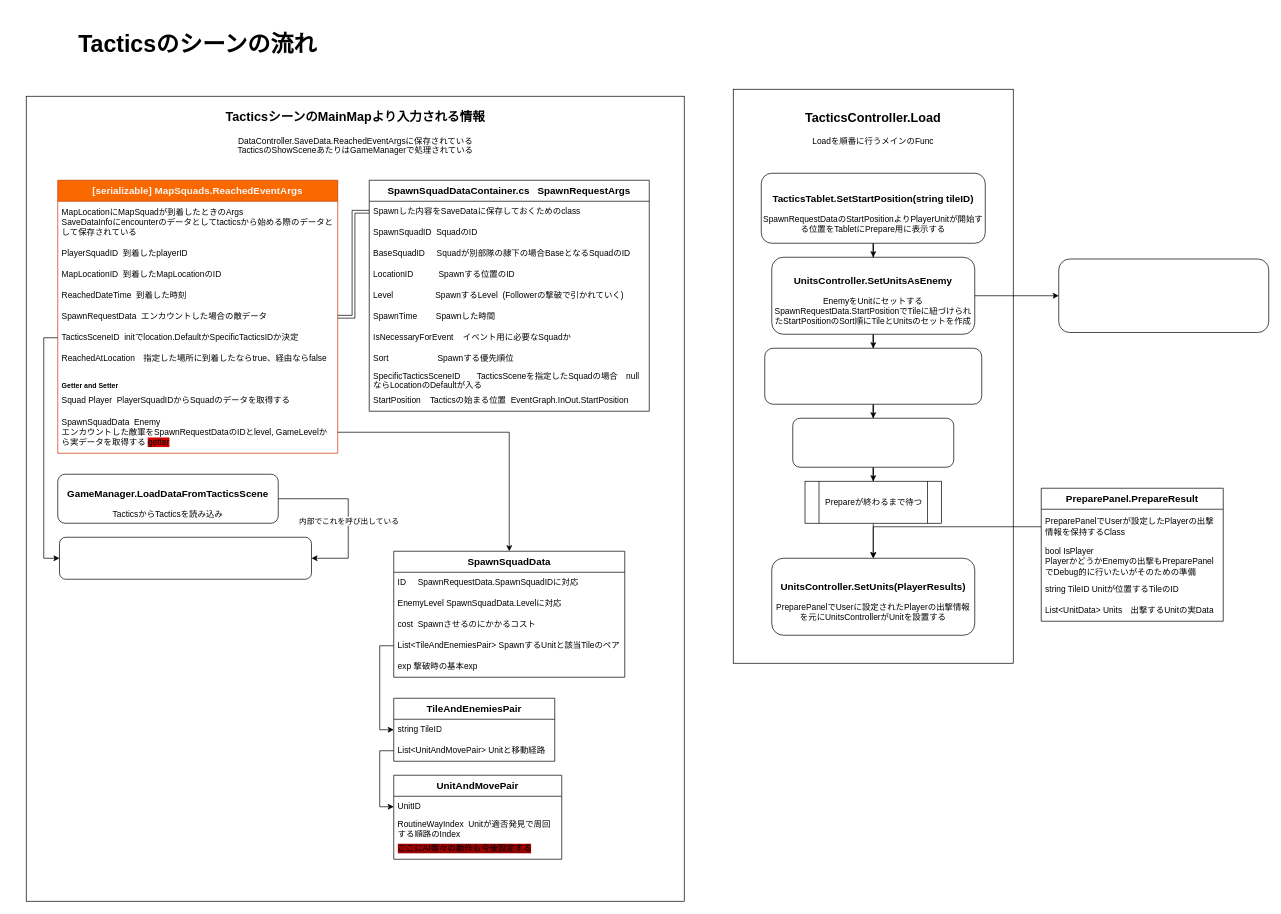
The diagram is 1281 pixels wide and 914 high, and some of its shapes have lost their labels. The shapes that lost their labels are listed below. From the top down, each one's centre as x and y in pixels, then its label:
At pixel 1163 295: "UnitsController.SetUnits(PlayerResults) UnitをEnemyとして設置する".
At pixel 873 376: "eventSceneController.PlayEventIfNeeded イベント終了時まで待つ".
At pixel 873 442: "tacticsTablet.ShowPreparePanel TacticsTabletに準備UIを表示".
At pixel 185 558: "GameManager.ShowTactics(string tacticsSceneID) MainMapSceneからTacticsのロードを呼び出し".
